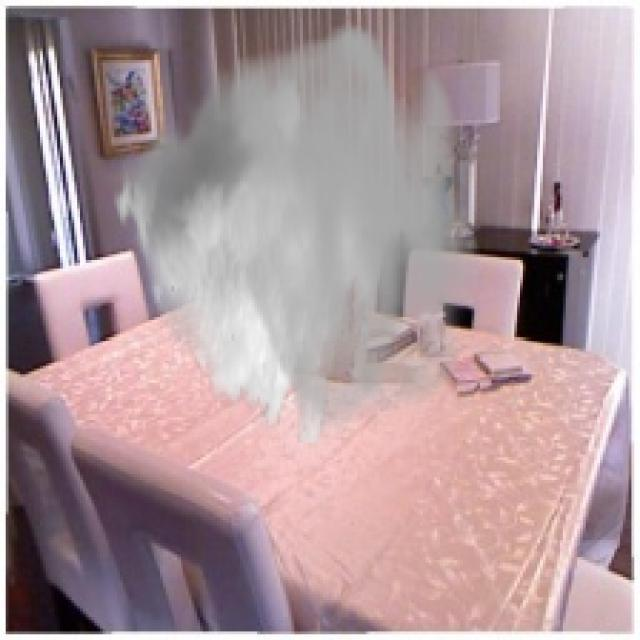Smoke: (111, 17, 480, 443)
